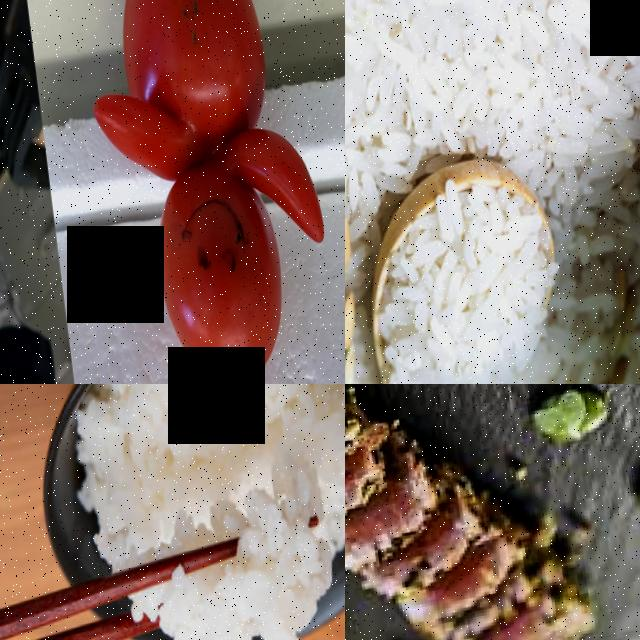white rice: (57, 384, 345, 640), (345, 0, 640, 173), (384, 192, 550, 384)
